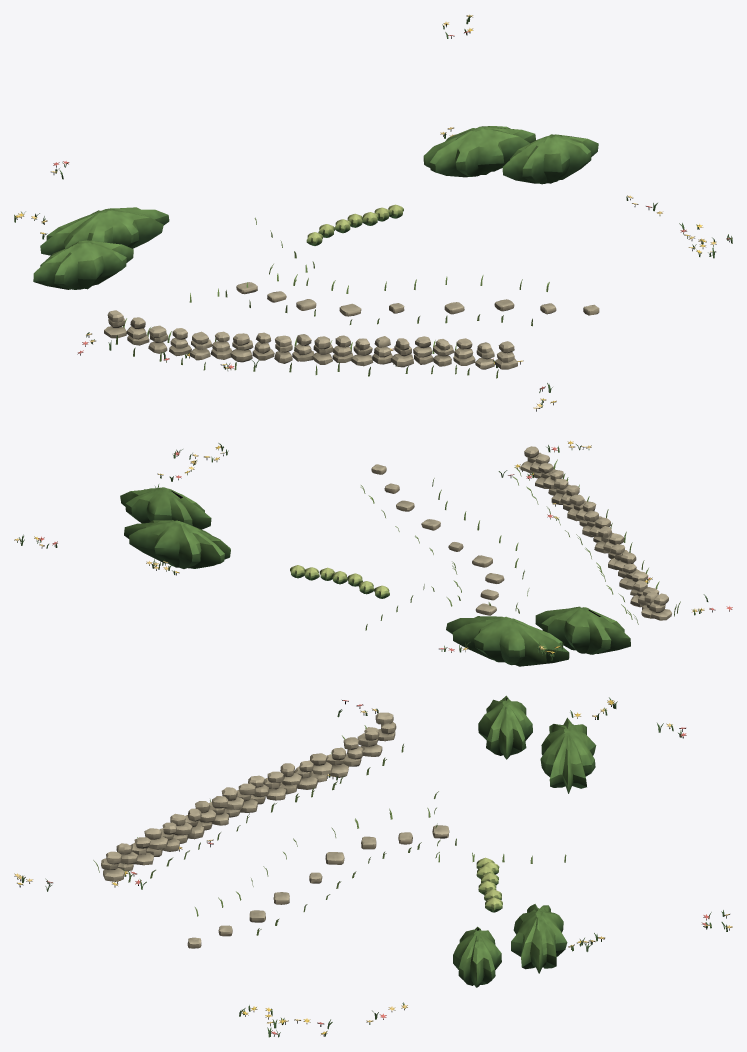
The model's file is foundation_props.glb.
3 renders of one model, top to bottom at view 1: azimuth 30°, elevation 25°; view 2: azimuth 150°, elevation 25°; view 3: azimuth 270°, elevation 25°, orthographic. The views are drawn at different scales.
Visible parts, largest first — view 1: Props, props_f_grass; view 2: Props, props_f_grass, props_f_grass_deep; view 3: Props, props_f_grass, props_f_grass_deep.
Part boxes in pixels (x1,y1,x2,y2): Props: [14, 14, 732, 411]; props_f_grass: [115, 217, 549, 378]; Props: [14, 440, 732, 666]; props_f_grass: [360, 459, 680, 630]; props_f_grass_deep: [19, 443, 708, 660]; Props: [14, 695, 732, 1036]; props_f_grass: [93, 725, 566, 935]; props_f_grass_deep: [22, 697, 727, 1037].
Bounding box in the file's own units: 18.53 × 2.7 × 17.42.
Materials: 3 (1 with a texture image).
